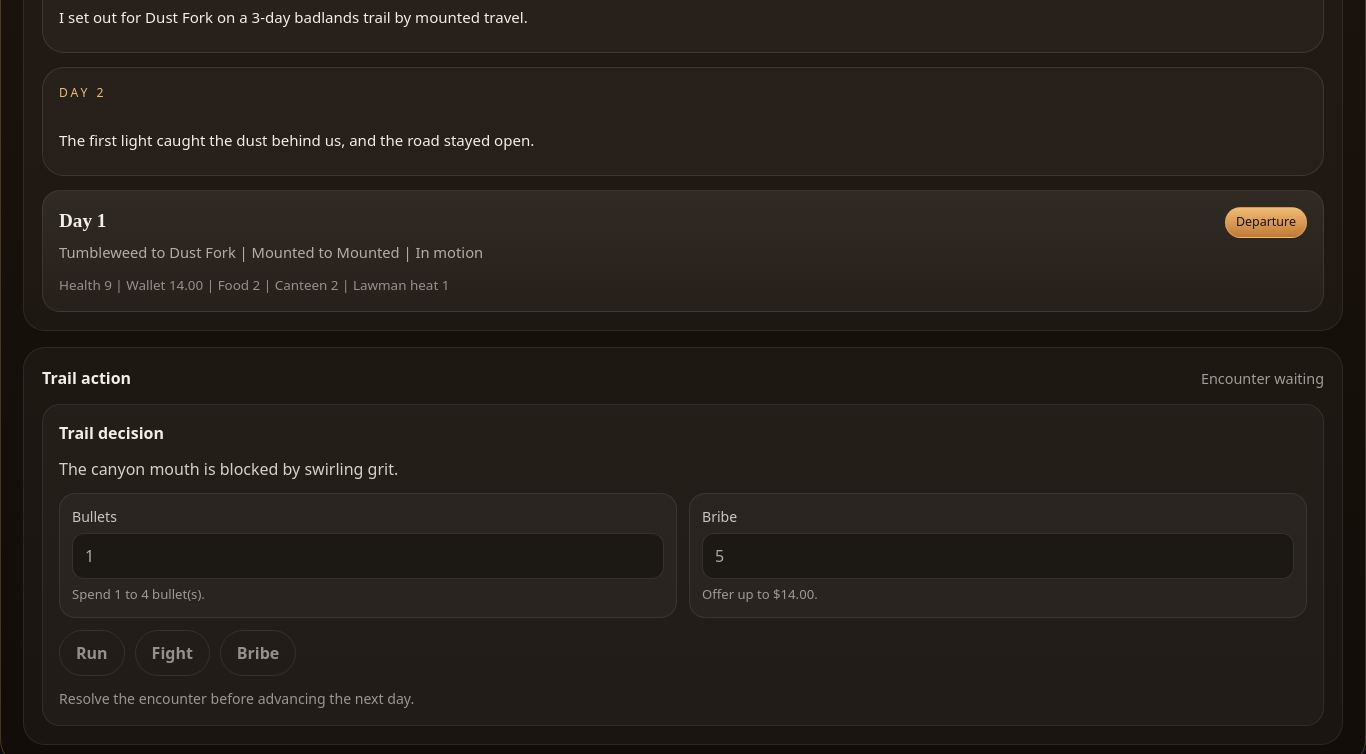
Test: TravelPanel › submits a chosen bullet spend when resolving a fight encounter
(page scrolled)
Replace the text in the number field labelled "Bullets" with "3": (368, 556) [72,533,664,579]
(page scrolled)
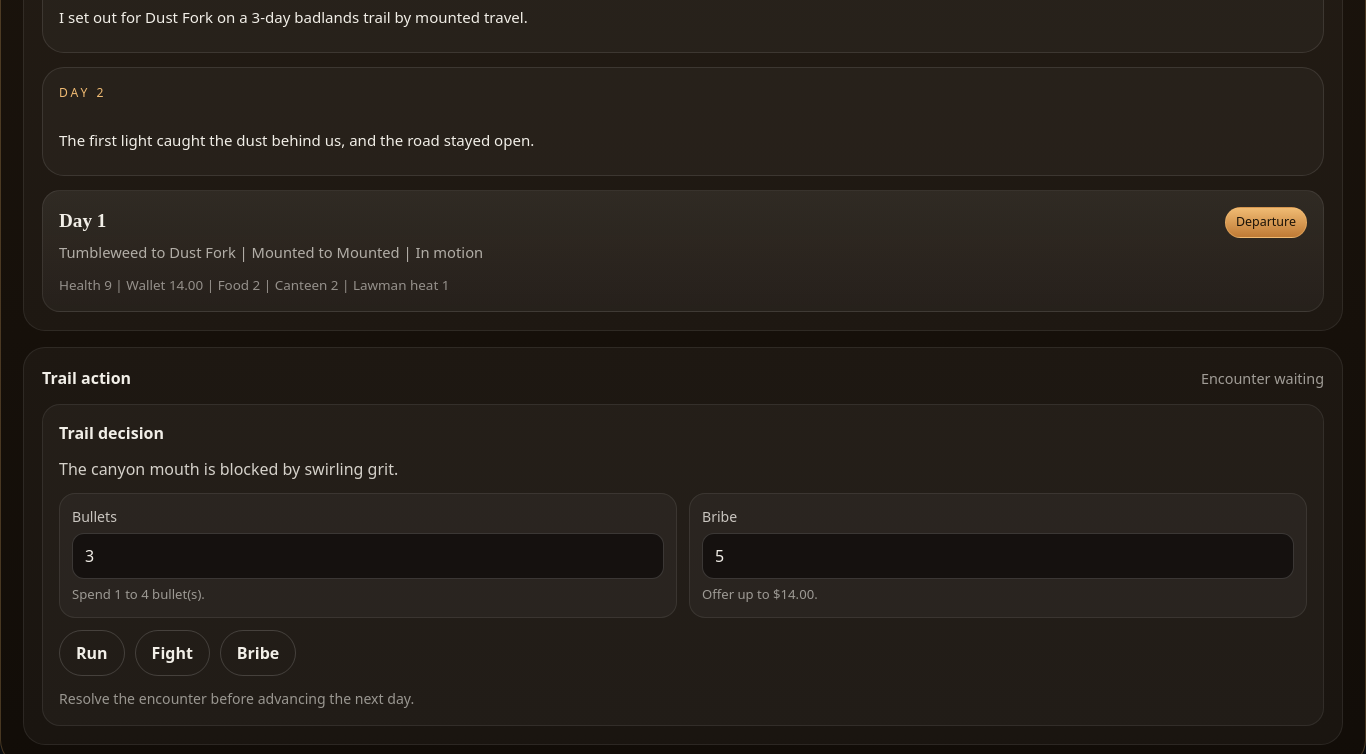
Click the button "Fight": (172, 653) [135,630,210,676]
(page scrolled)
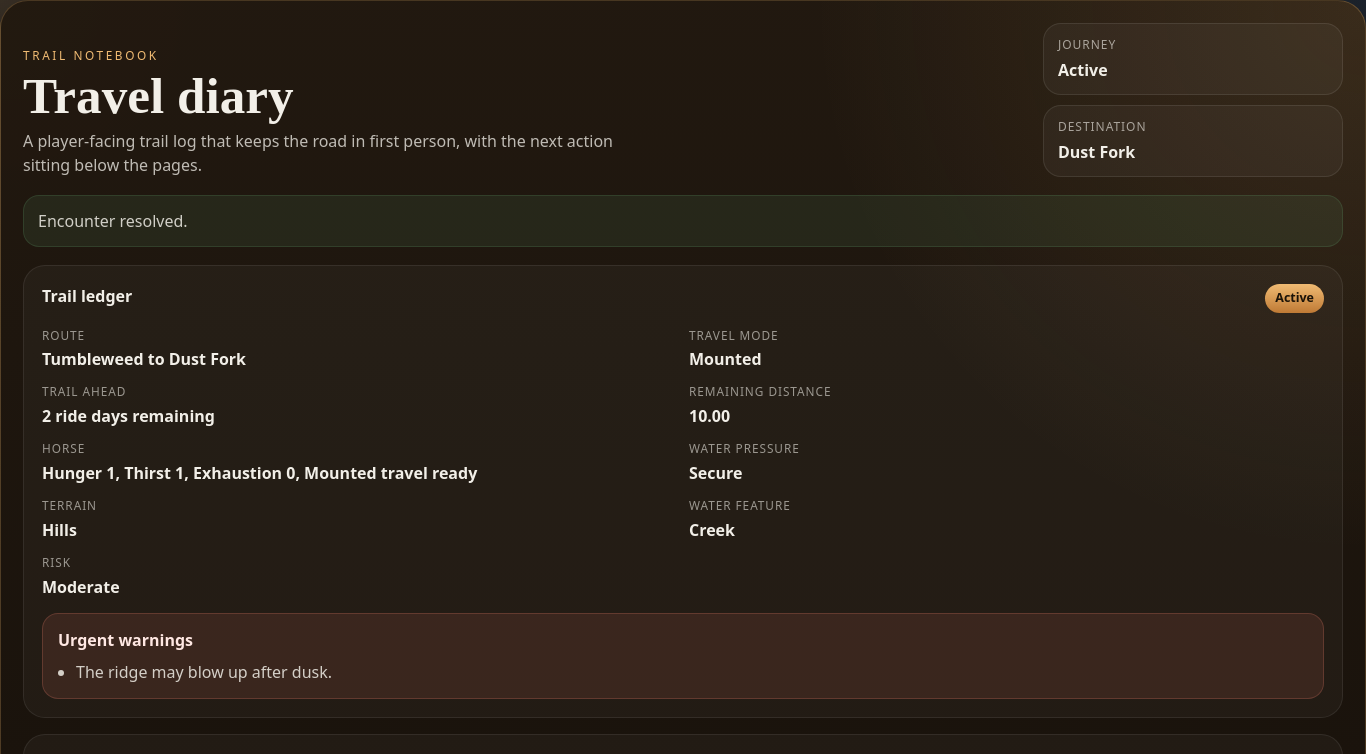
Check: the text "Encounter resolved." is shown, box [23,195,1343,247]
